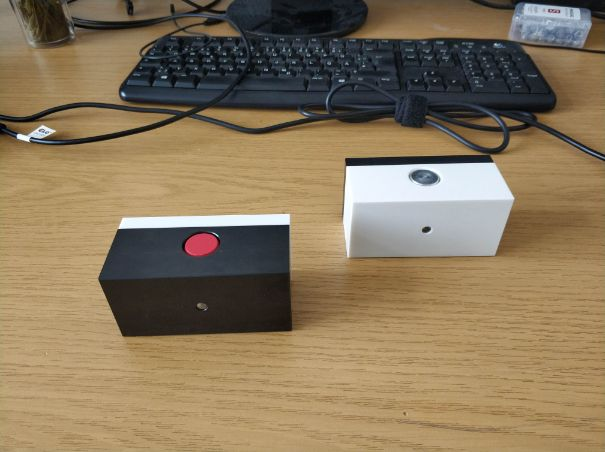black+white+silver: (341, 155, 516, 260)
white+black+red: (97, 212, 295, 338)
